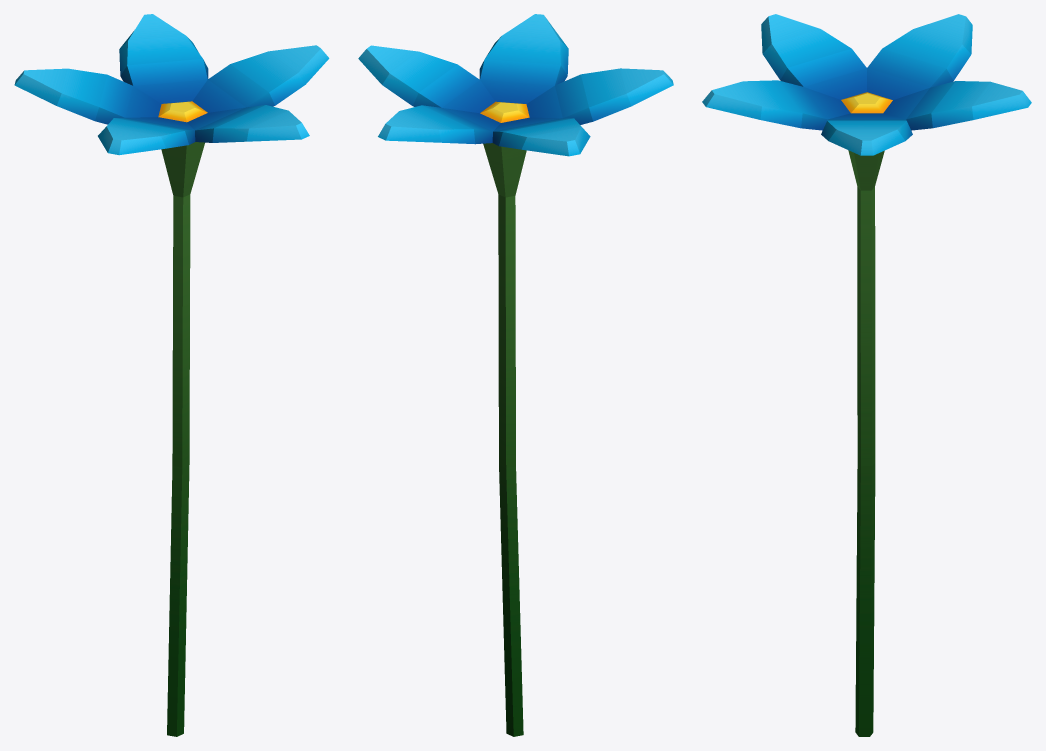
File: Flower_Blue_01.fbx
3 views of the same model, side by side, from view 1: azimuth 30°, elevation 25°; view 2: azimuth 150°, elevation 25°; view 3: azimuth 270°, elevation 25° (orthographic). The views are drawn at different scales.
Parts seen in each view (by area): view 1: Flower_Blue_01; view 2: Flower_Blue_01; view 3: Flower_Blue_01.
Part boxes in pixels (x1=…): Flower_Blue_01: x1=14, y1=14, x2=329, y2=736; Flower_Blue_01: x1=358, y1=14, x2=673, y2=736; Flower_Blue_01: x1=702, y1=14, x2=1031, y2=736.
Bounding box in the file's own units: 18.82 × 44.16 × 19.78.
